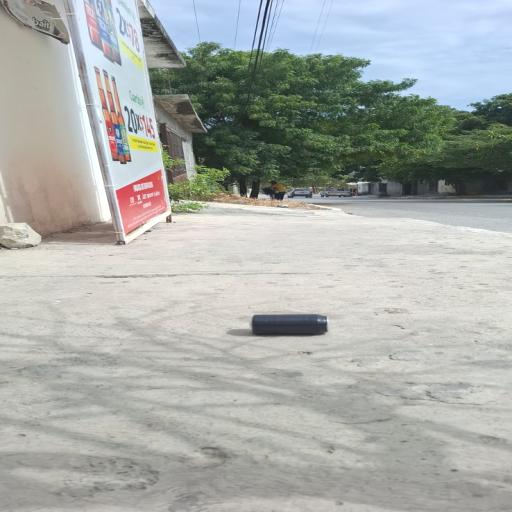LATA: (239, 308, 343, 341)
